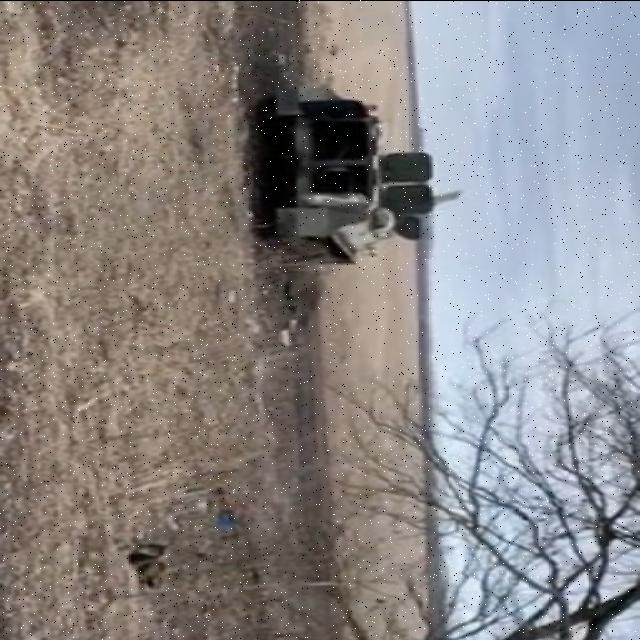APC-IFV: (247, 81, 451, 268)
